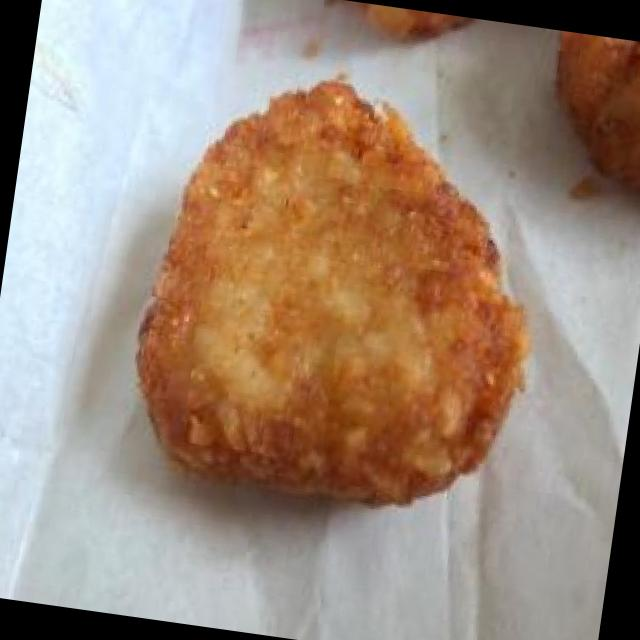triangle_hash_brown: (113, 49, 567, 534)
